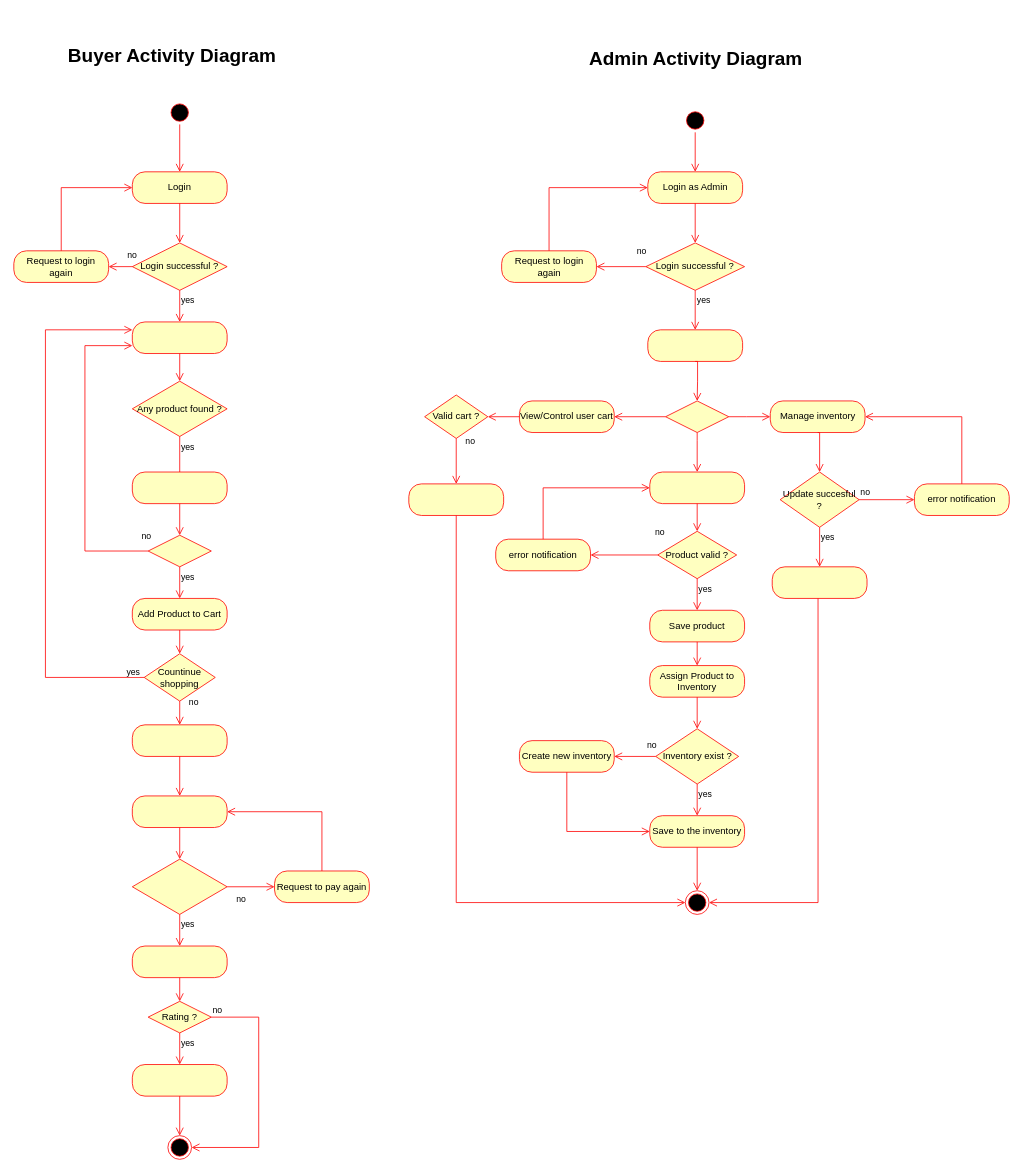
This 1023x1173 diagram has some shape labels left out. Here are the shapes that lost their labels. From the top down, the box of each, then its label:
(132, 321, 227, 354): Browse Product
(647, 329, 743, 361): Admin Dashboard
(132, 471, 227, 504): View Product Details
(408, 483, 504, 515): Disable cart
(649, 471, 745, 504): Manage Product
(147, 534, 211, 567): In stock ?
(771, 566, 867, 598): Save the inventory
(132, 724, 227, 756): View summary cart
(132, 795, 227, 828): Check out
(132, 858, 227, 914): Payment successful
(132, 945, 227, 978): Send a confirmation email
(132, 1064, 227, 1096): Rating product
